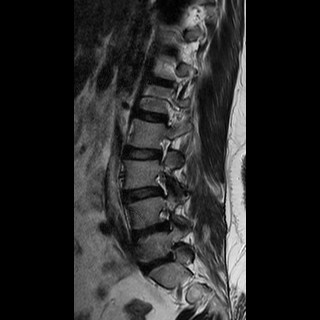RFS0: (150, 131, 178, 169)
RFS1: (149, 169, 179, 206)
RFS2: (147, 205, 179, 238)
